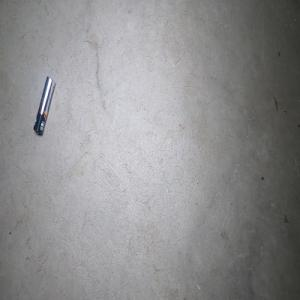Battery: (33, 76, 55, 135)
